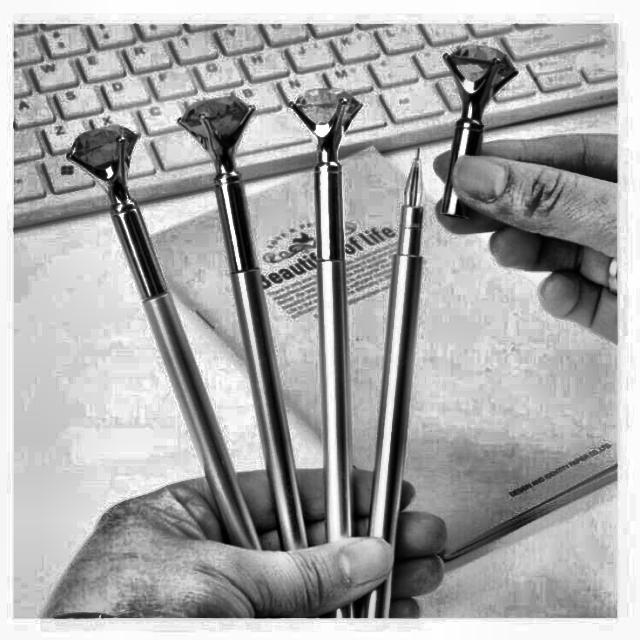Pen: (68, 126, 260, 551), (177, 99, 304, 551), (371, 146, 424, 543)
